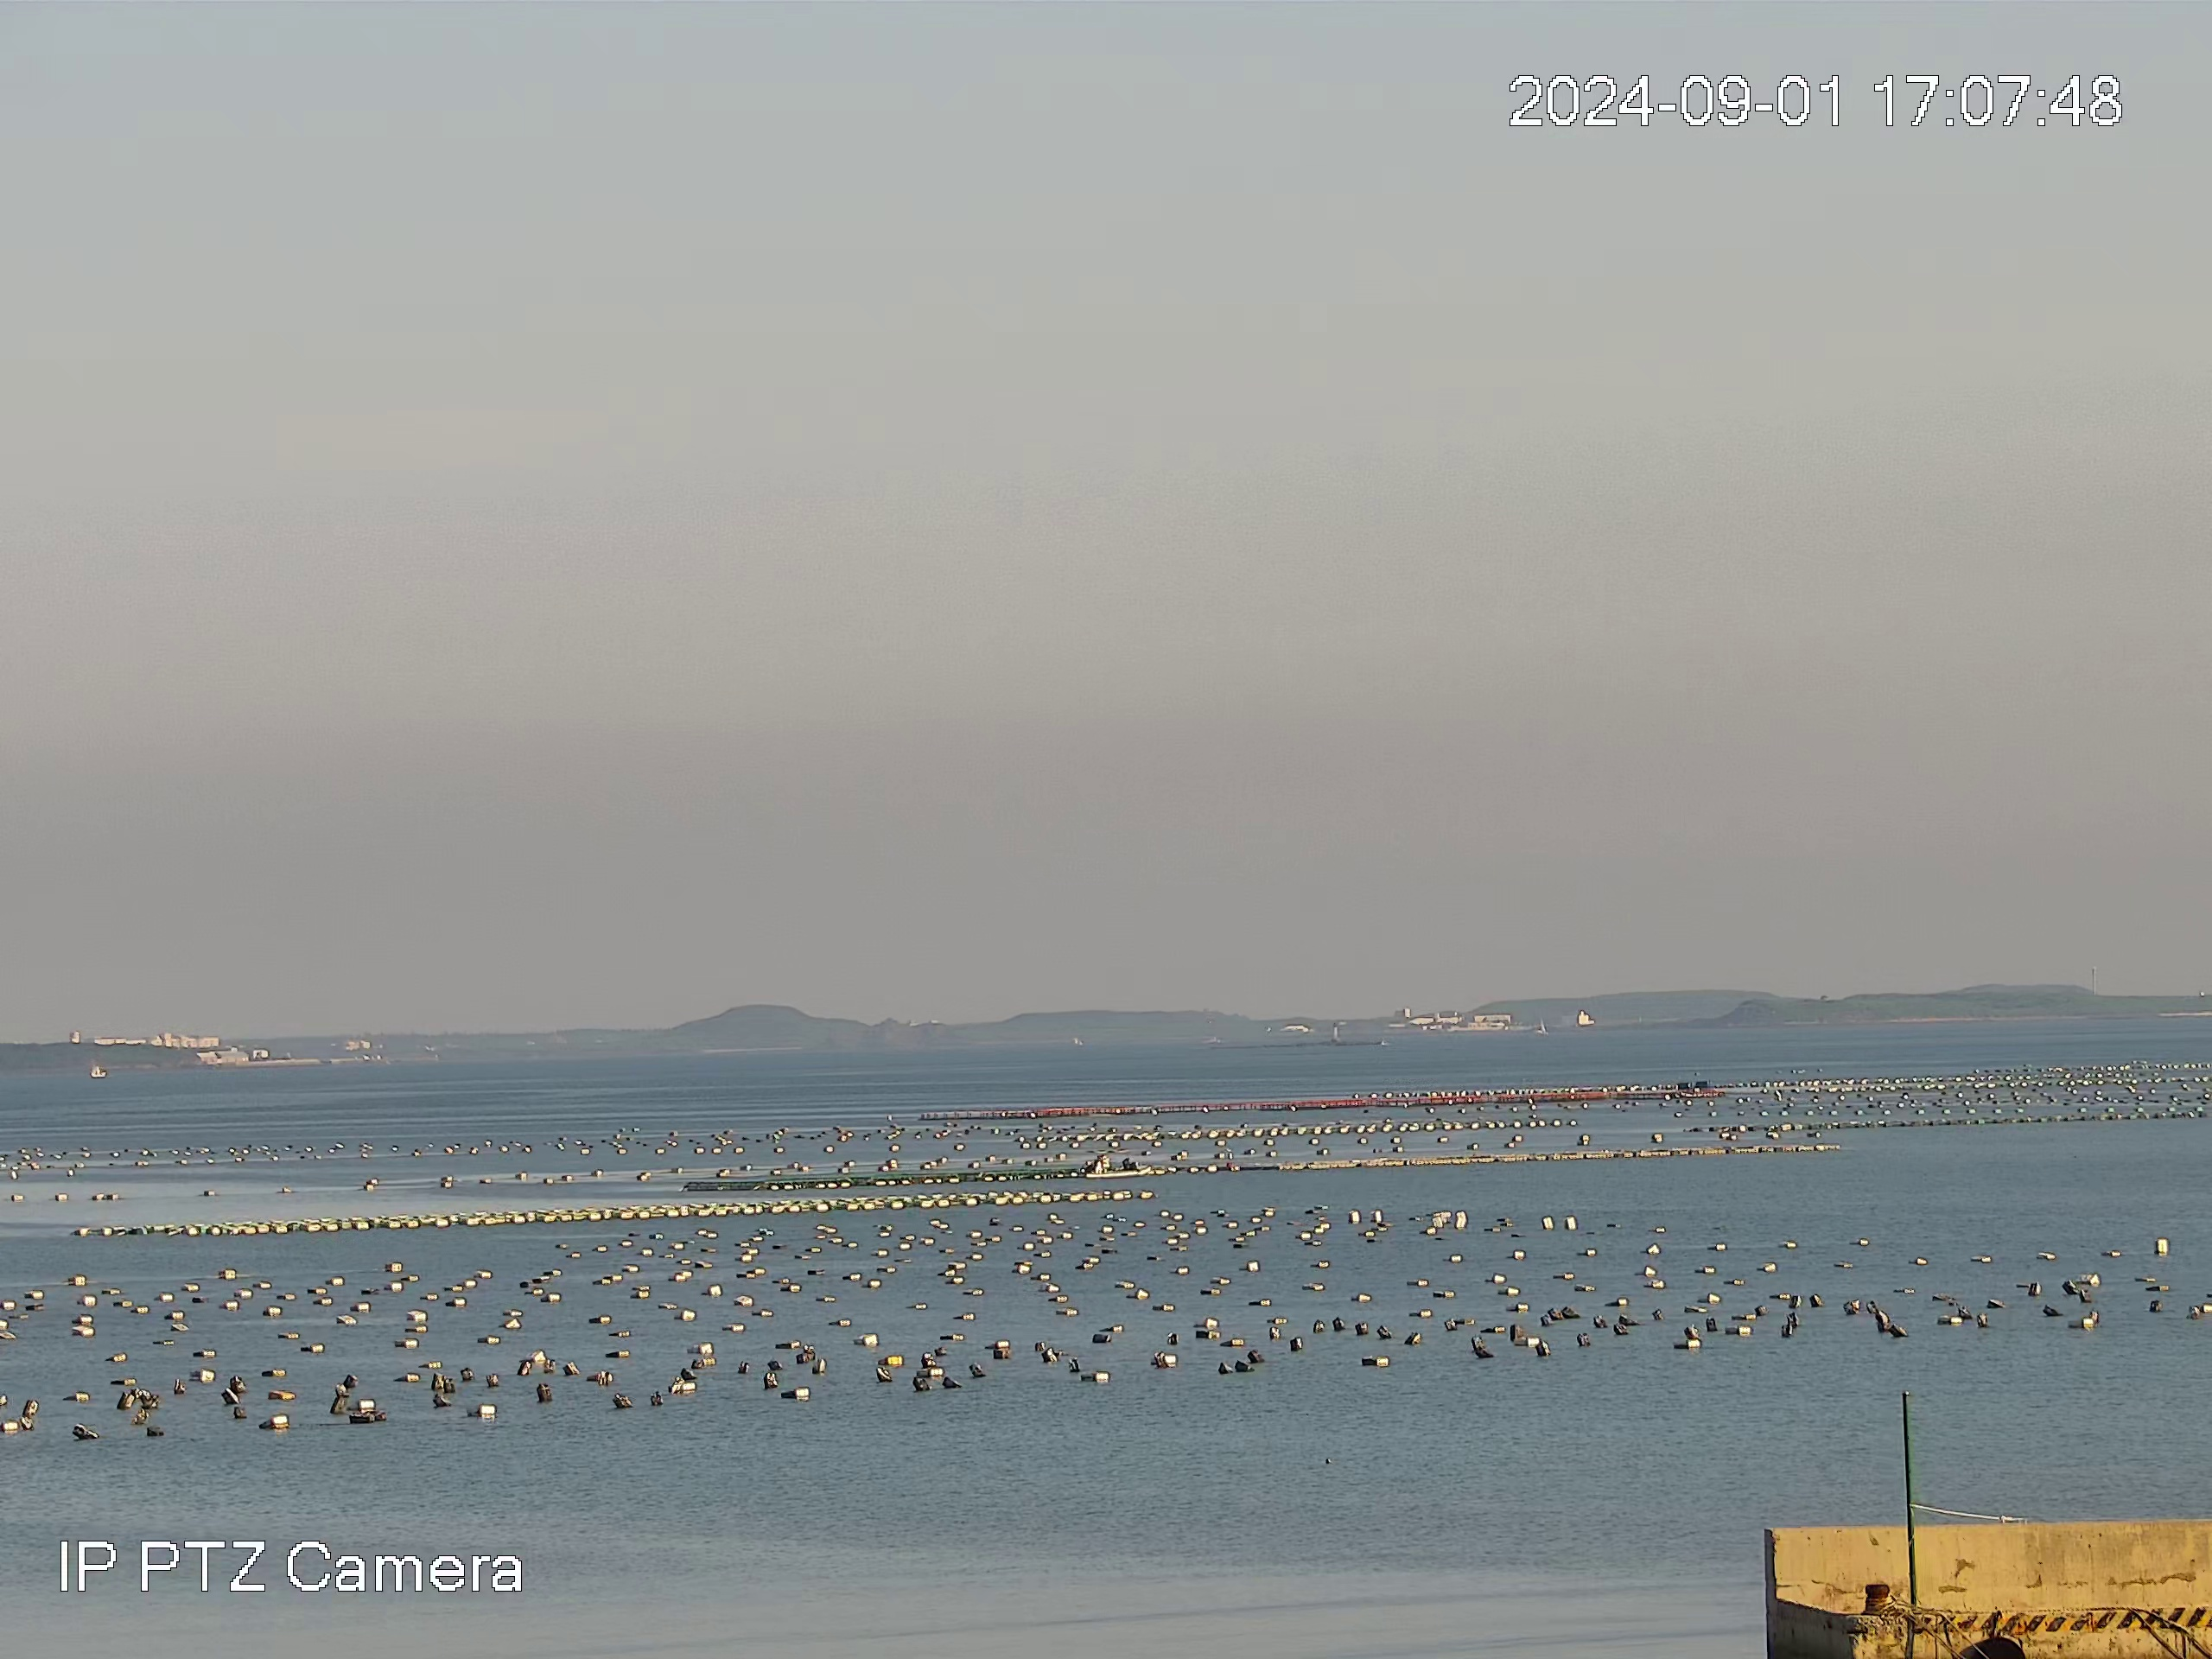boat: (1088, 1155, 1152, 1176)
